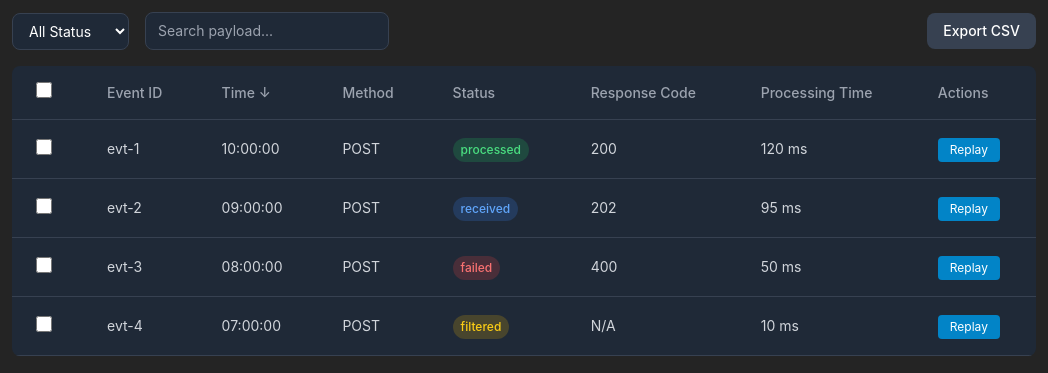
it: WebhookEventHistory › Filtering › should filter events by processed status
Expected: the text "evt-1" is shown, [83,120,198,178]
Select "Processed" in the dropdown named "filter by status": (70, 31) [12,12,129,50]
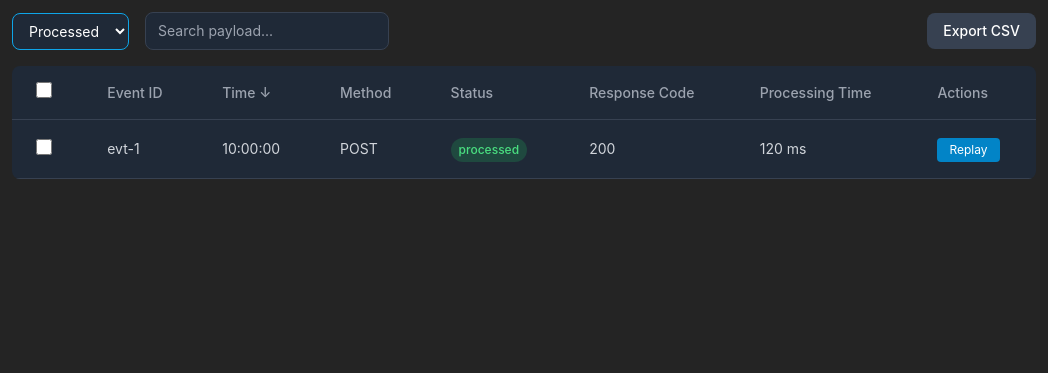
Result: the text "evt-2" is gone
Result: the text "evt-3" is gone
Result: the text "evt-4" is gone
